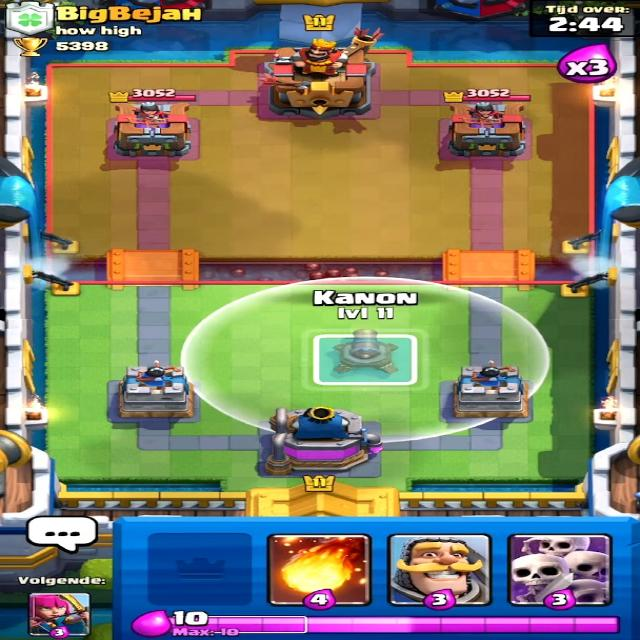Fireball_Card: (264, 532, 373, 605)
